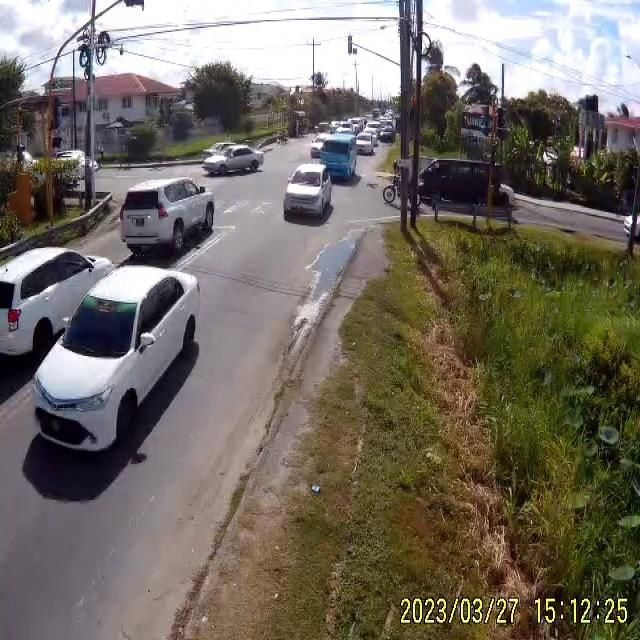car: (33, 266, 201, 456), (1, 246, 108, 373), (119, 175, 216, 261), (414, 159, 515, 225), (284, 164, 336, 225), (315, 134, 357, 186), (202, 144, 264, 176), (355, 132, 378, 154)
motorbike: (384, 160, 410, 212)
